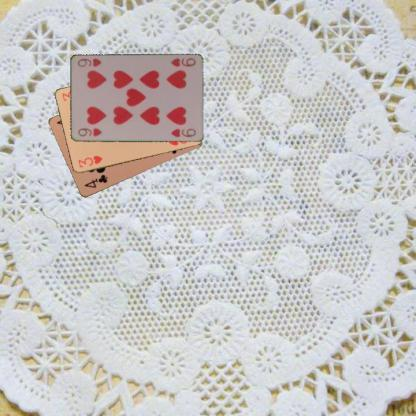3h: (75, 153, 104, 169)
4c: (82, 172, 108, 190)
9h: (168, 56, 197, 68), (75, 126, 103, 138)
